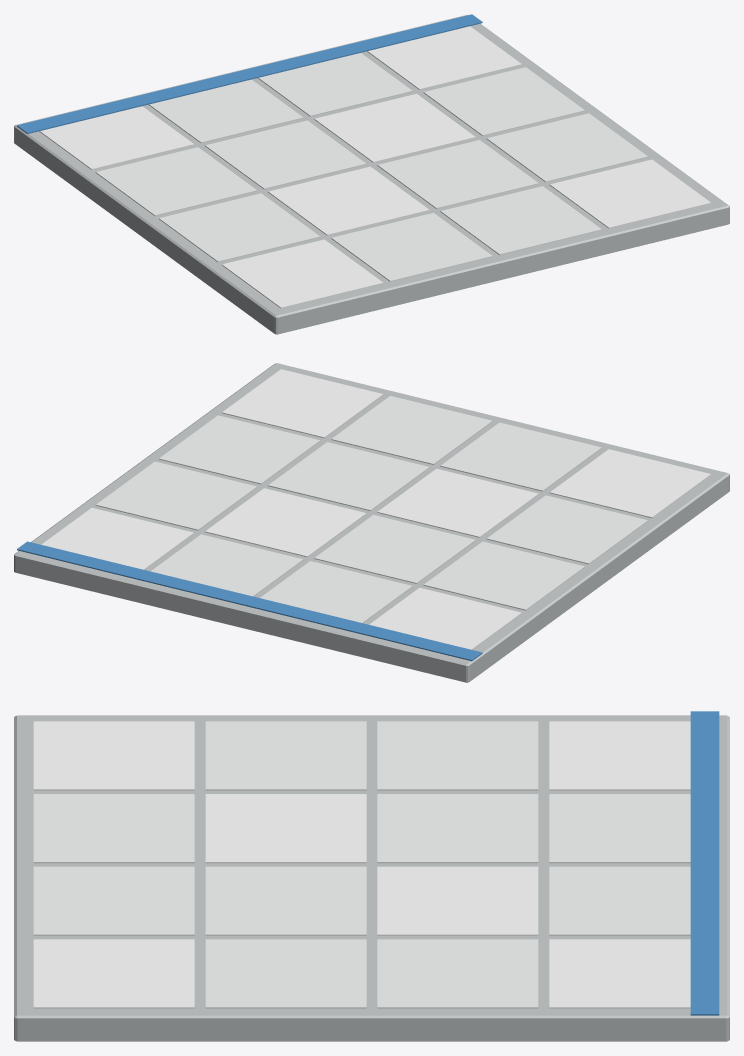
Rendered from public-swimming-baths-and-poolside-poolside-deck-tile-311f13d9__35238.glb.
3 views of the same model, one above another, from view 1: azimuth 30°, elevation 25°; view 2: azimuth 150°, elevation 25°; view 3: azimuth 270°, elevation 25° (orthographic). The views are drawn at different scales.
Parts seen in each view (by area): view 1: poolside-deck-tile; view 2: poolside-deck-tile; view 3: poolside-deck-tile.
Part boxes in pixels (box(x1,y1,x2,y2)): poolside-deck-tile: box(14, 14, 729, 334); poolside-deck-tile: box(14, 363, 729, 682); poolside-deck-tile: box(14, 711, 729, 1041).
Bounding box in the file's own units: 2 × 0.089 × 2.
